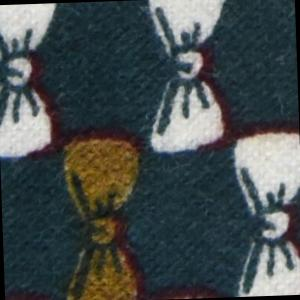Oil Stain: (58, 121, 148, 300)
